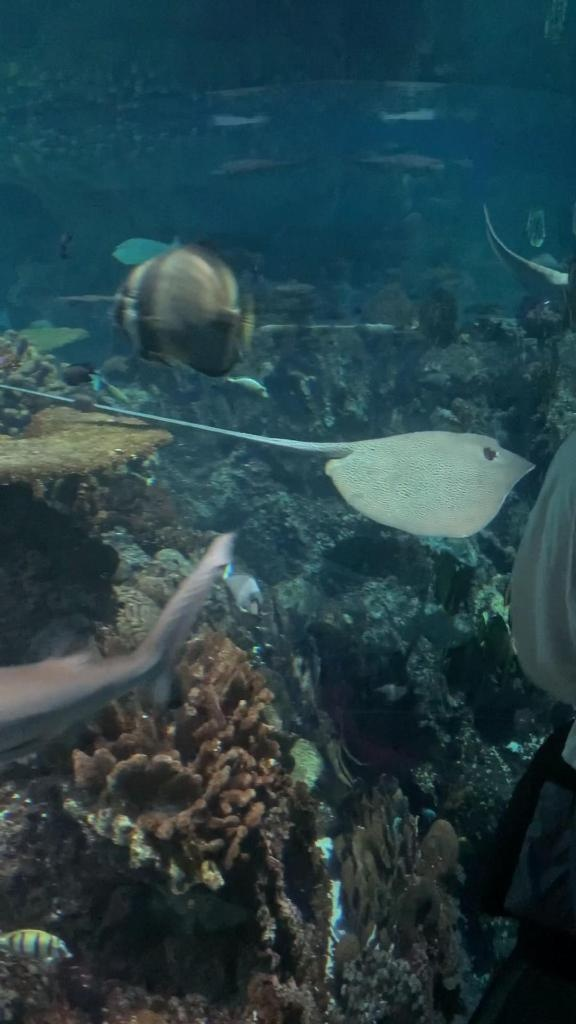fish: (109, 240, 257, 382), (499, 434, 574, 706), (110, 236, 185, 264)
shark: (2, 528, 234, 762)
stingray: (322, 430, 538, 536)
